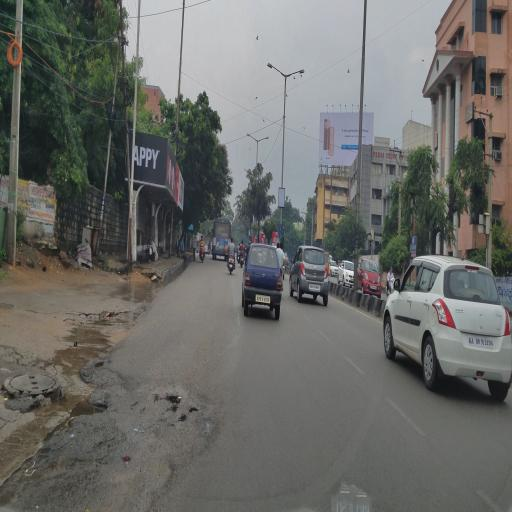street_light_0: (287, 56, 308, 94), (265, 56, 286, 93), (254, 120, 272, 150), (238, 119, 256, 149)
